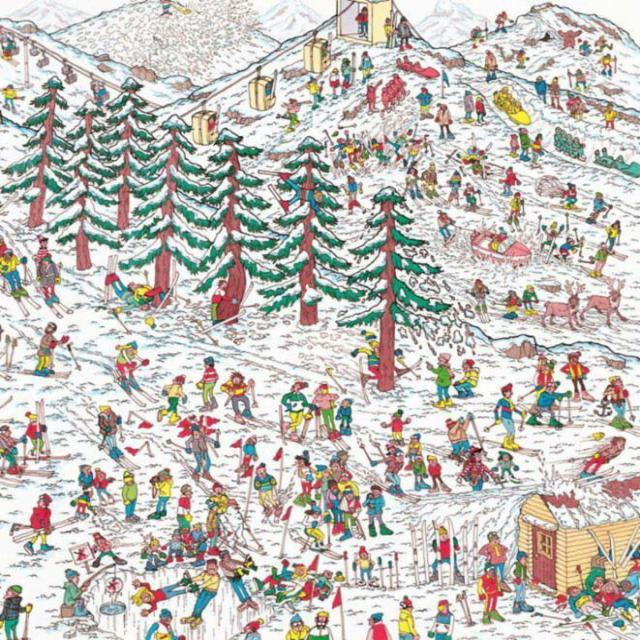waldo: (470, 446, 482, 460)
